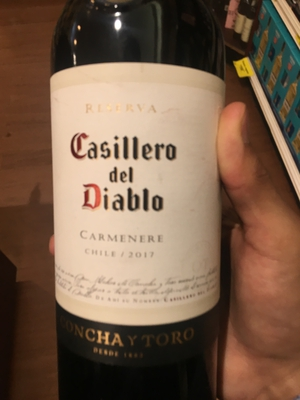casillero del diablo carmenere: (42, 16, 232, 400)
